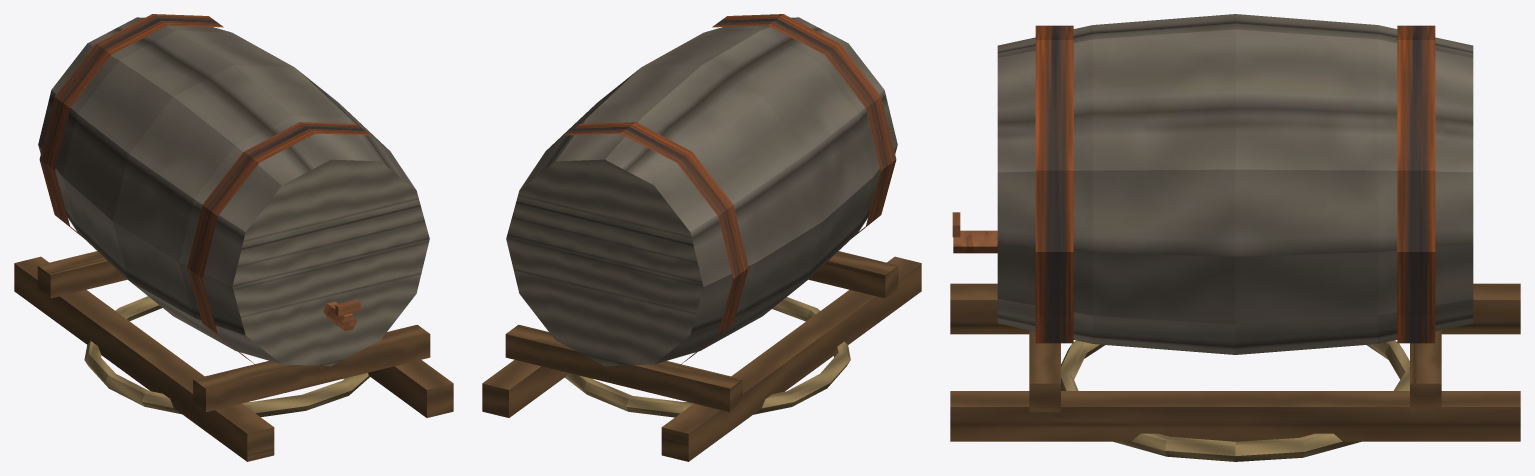
File: prop_bierton_red.glb
The picture shows the model from 3 angles, left to right: view 1: azimuth 30°, elevation 25°; view 2: azimuth 150°, elevation 25°; view 3: azimuth 270°, elevation 25°; orthographic projection. The views are drawn at different scales.
Visible parts, largest first — view 1: prop_bierton_red; view 2: prop_bierton_red; view 3: prop_bierton_red.
Part boxes in pixels (left/top/right/bottom): prop_bierton_red: left=14, top=14, right=453, bottom=461; prop_bierton_red: left=482, top=14, right=921, bottom=461; prop_bierton_red: left=950, top=14, right=1520, bottom=461.
Bounding box in the file's own units: 0.5718 × 0.6239 × 0.9.
1 material, 1 textured.
